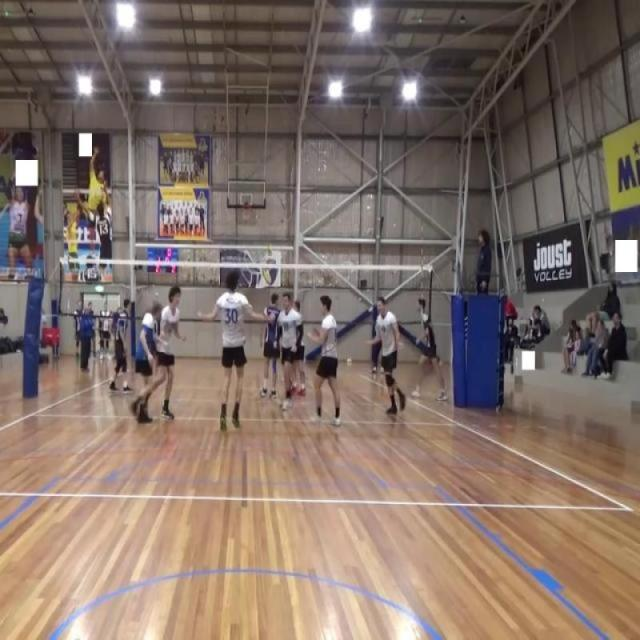volleyball: (266, 244, 273, 256)
